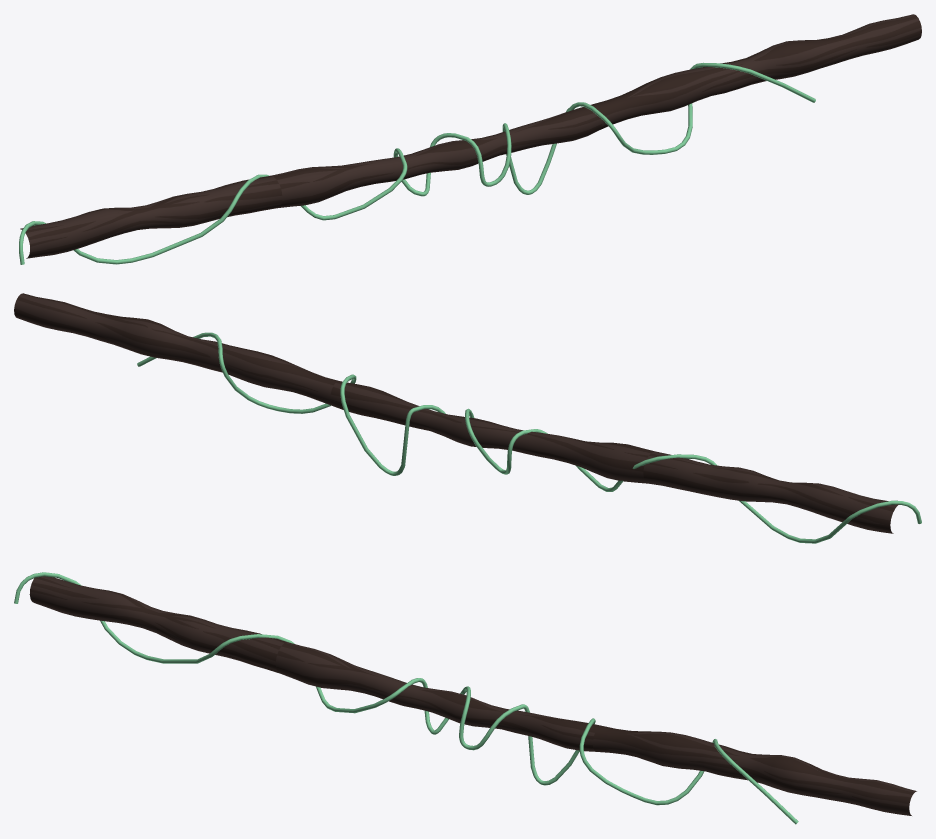
3 views of the same model, one above another, from view 1: azimuth 30°, elevation 25°; view 2: azimuth 150°, elevation 25°; view 3: azimuth 330°, elevation 25° (orthographic).
Parts seen in each view (by area): view 1: 木头02_obj, 藤条; view 2: 木头02_obj, 藤条; view 3: 木头02_obj, 藤条.
Boxes of the visible parts, left/top/right/bottom form: 木头02_obj: left=20, top=14, right=921, bottom=258; 藤条: left=19, top=62, right=815, bottom=264; 木头02_obj: left=14, top=293, right=898, bottom=533; 藤条: left=137, top=332, right=921, bottom=543; 木头02_obj: left=29, top=576, right=916, bottom=815; 藤条: left=14, top=572, right=798, bottom=824.
Size of the model in its own units: 8.57 by 0.8617 by 0.5466.
2 materials, 1 textured.
